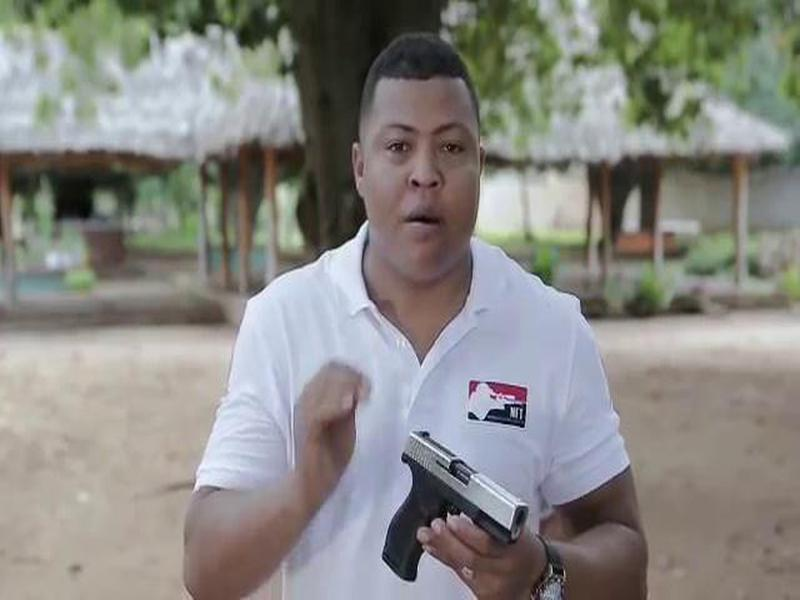Pistola: (370, 421, 538, 588)
